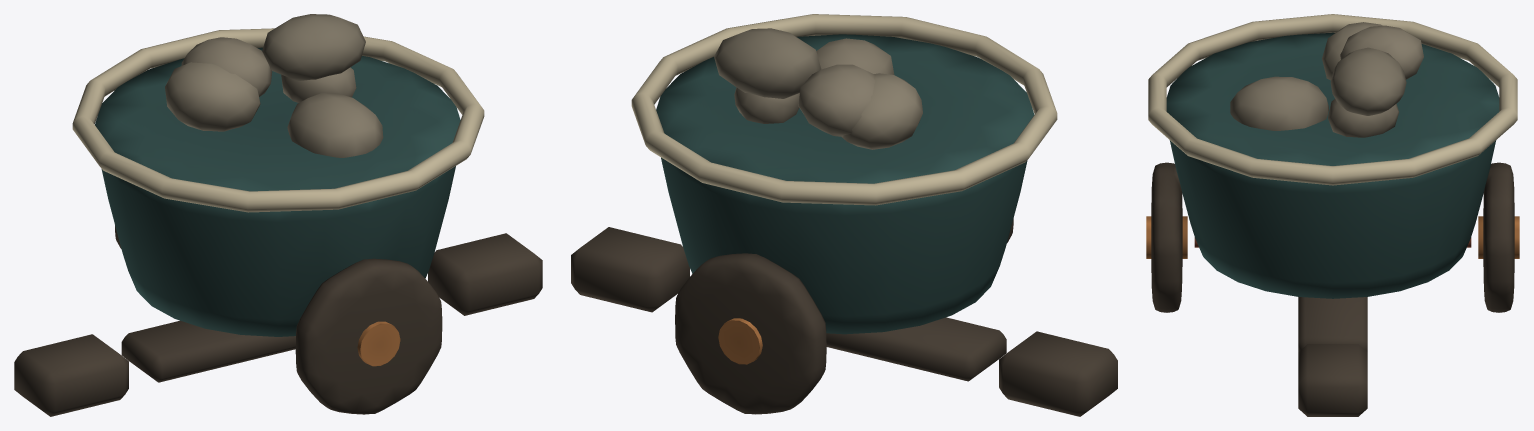
File: ore_trolley_a.glb
3 views of the same model, side by side, from view 1: azimuth 30°, elevation 25°; view 2: azimuth 150°, elevation 25°; view 3: azimuth 270°, elevation 25° (orthographic). The views are drawn at different scales.
Visible parts, largest first — view 1: Surface; view 2: Surface; view 3: Surface.
Part boxes in pixels (<box>): Surface: <box>14,14,542,416</box>; Surface: <box>571,14,1117,416</box>; Surface: <box>1146,14,1519,416</box>.
Bounding box in the file's own units: 2.3 × 1.33 × 1.62.
